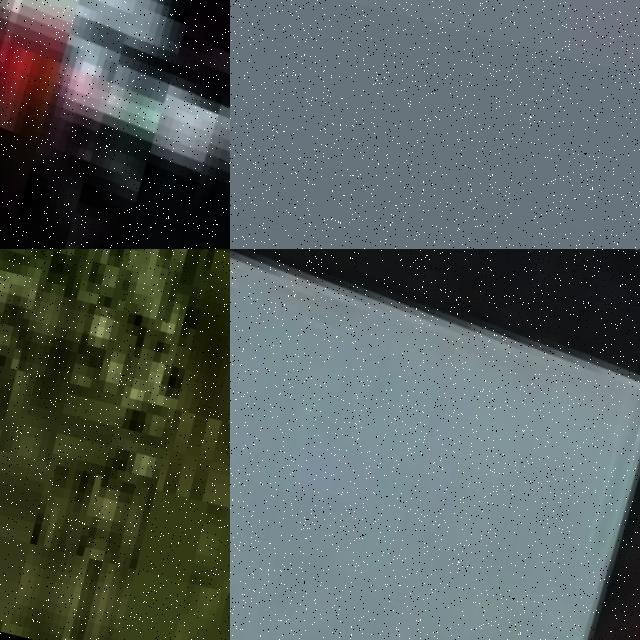drone: (230, 249, 640, 640), (0, 0, 230, 249)
